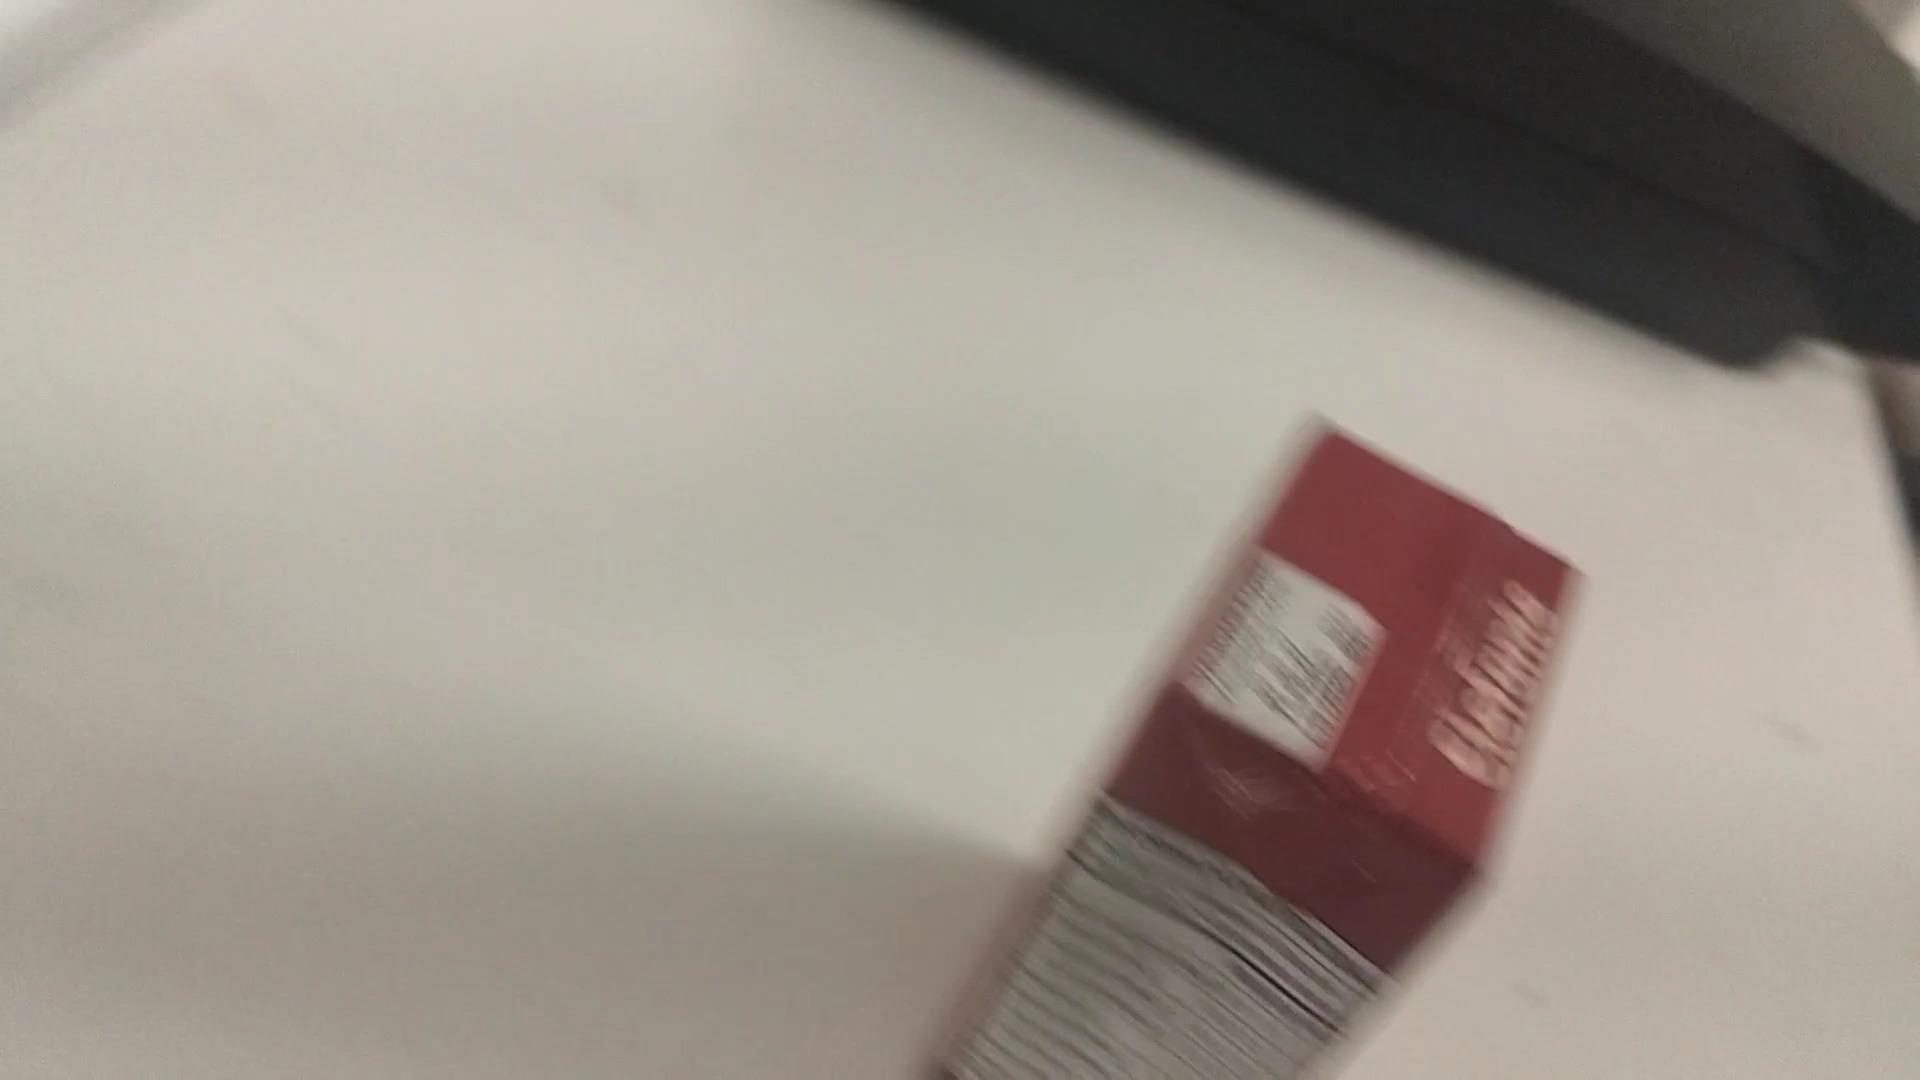tomate: (899, 372, 1611, 1080)
